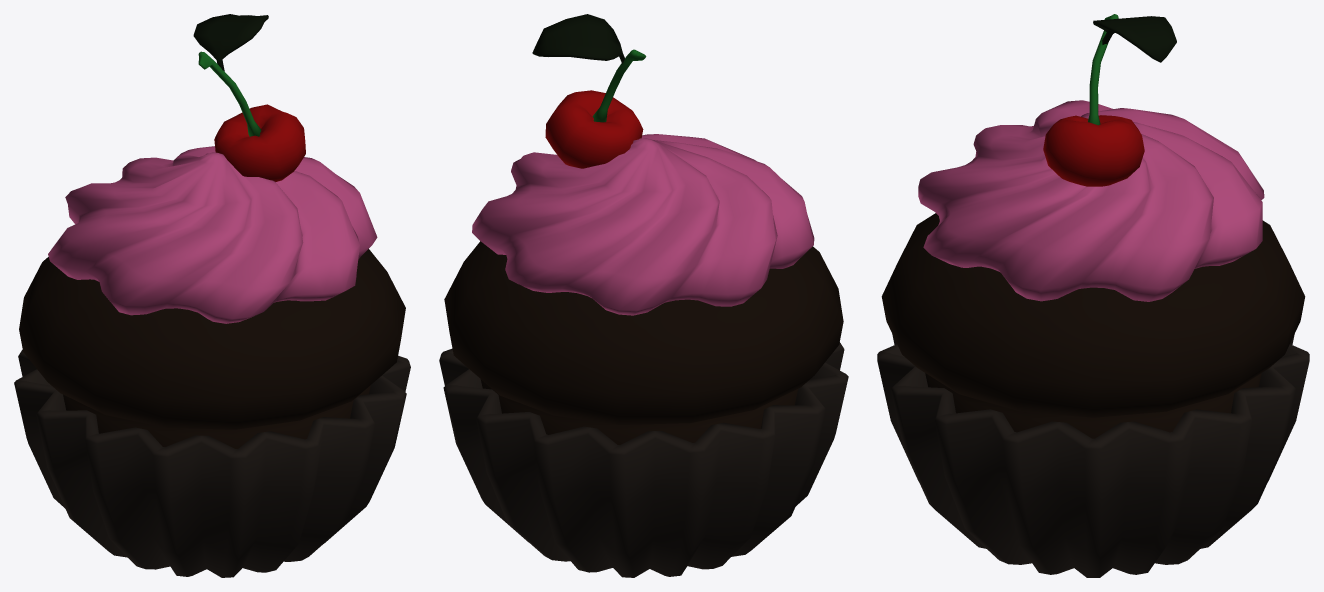
Rendered from Muffin_1.FBX.
The picture shows the model from 3 angles, left to right: view 1: azimuth 30°, elevation 25°; view 2: azimuth 150°, elevation 25°; view 3: azimuth 270°, elevation 25°; orthographic projection. The views are drawn at different scales.
Parts seen in each view (by area): view 1: Muffin_1; view 2: Muffin_1; view 3: Muffin_1.
Boxes of the visible parts, <box> form: Muffin_1: <box>14,14,410,577</box>; Muffin_1: <box>439,14,848,577</box>; Muffin_1: <box>877,14,1309,577</box>.
Size of the model in its own units: 1031 by 1031 by 1417.
